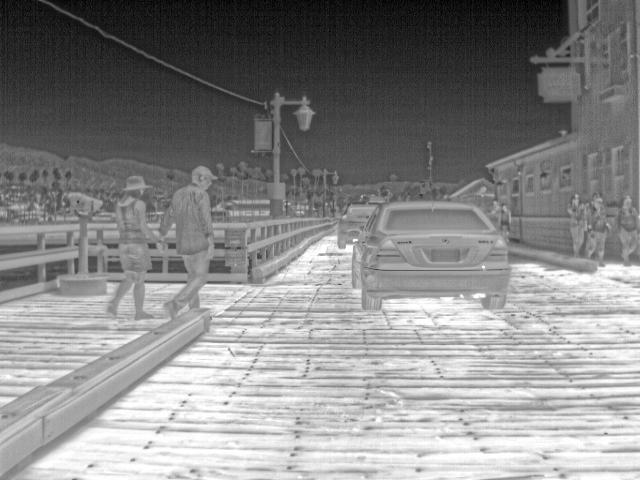car: (350, 198, 512, 310), (336, 204, 376, 250)
person: (153, 166, 219, 321), (109, 176, 162, 322), (584, 197, 610, 267), (616, 195, 639, 265), (567, 195, 590, 259), (489, 198, 503, 226), (500, 204, 513, 232)
